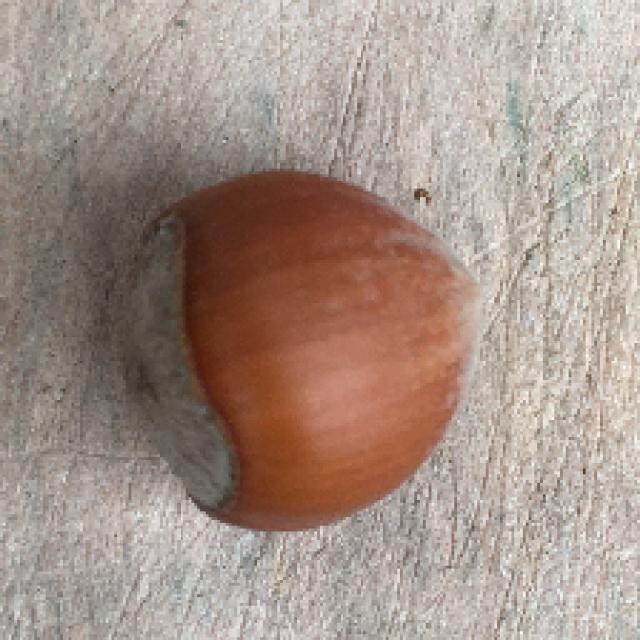qualityHazelnut: (99, 156, 486, 548)
